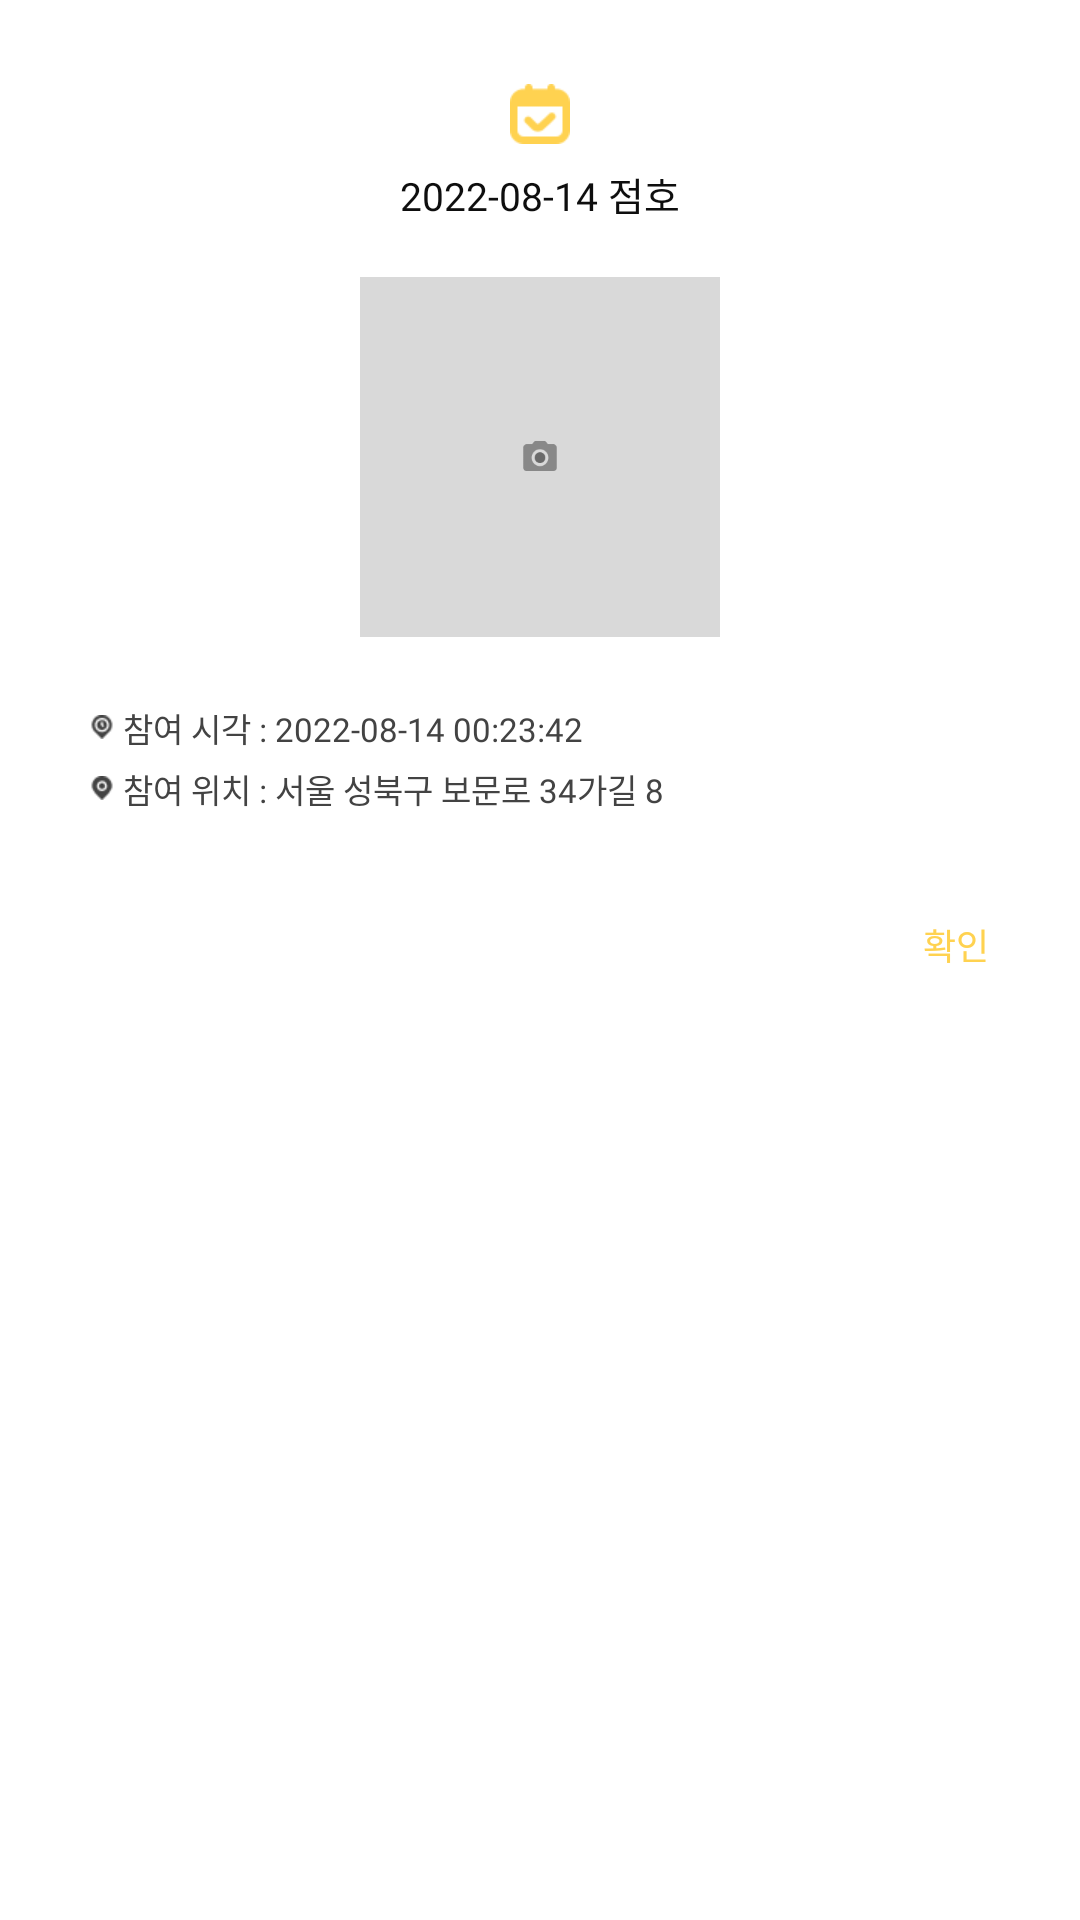

Icons on this 1080x1920 Android screen, each with its box as (x1, y1, x2, y2):
home calendar location: (91, 776, 113, 800)
home calendar rollcall: (510, 84, 570, 144)
home calendar time: (91, 715, 113, 739)
